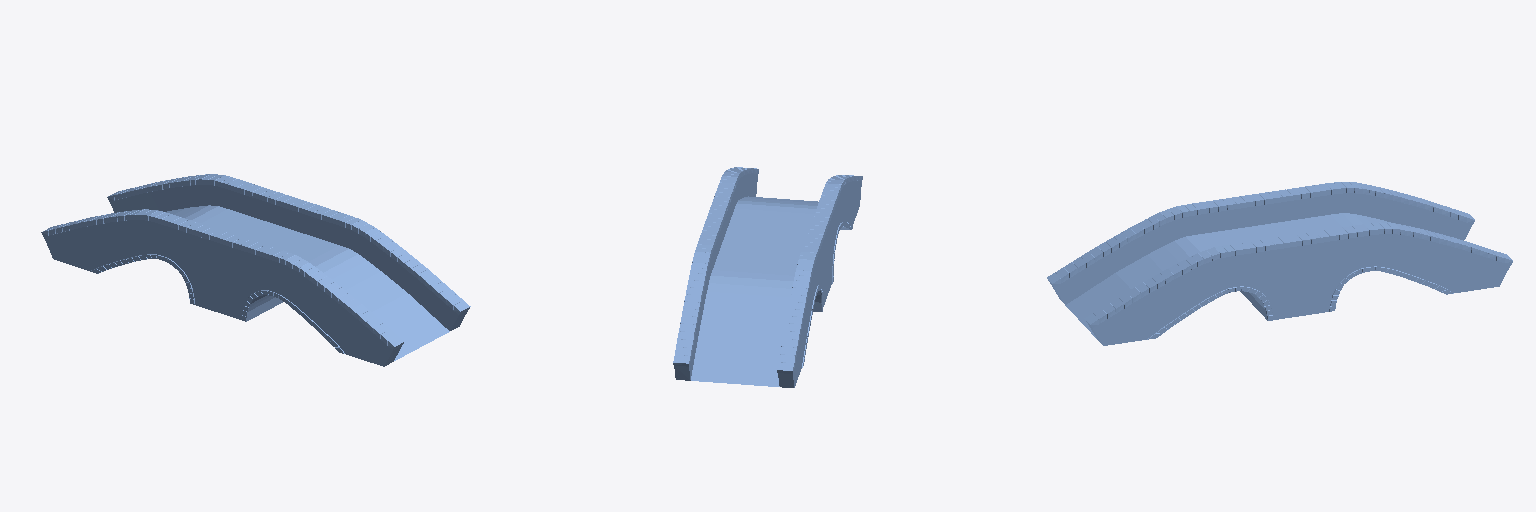
Rendered from bridge.obj.
3 views of the same model, side by side, from view 1: azimuth 30°, elevation 25°; view 2: azimuth 150°, elevation 25°; view 3: azimuth 270°, elevation 25° (orthographic).
Visible parts, largest first — view 1: Bridge; view 2: Bridge; view 3: Bridge.
Part boxes in pixels (x1,y1,x2,y2): Bridge: (41,174,470,366); Bridge: (673,167,862,387); Bridge: (1047,182,1512,345).
Bounding box in the file's own units: 13.61 × 4.34 × 22.98.